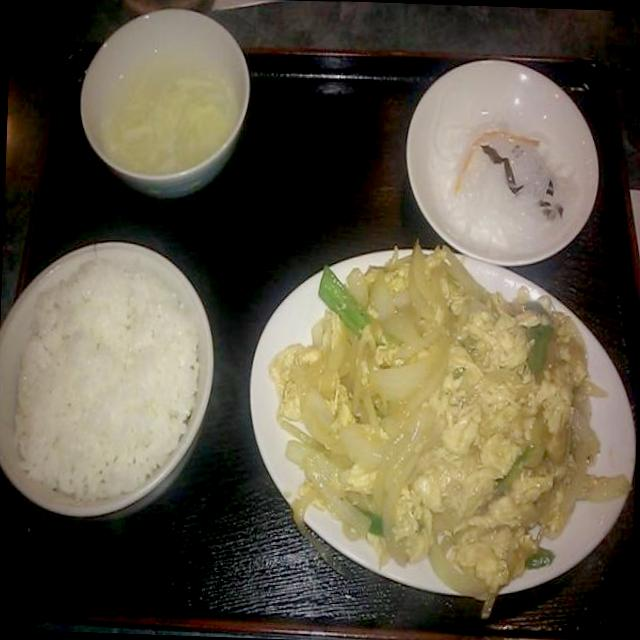Rice: (0, 246, 205, 495)
